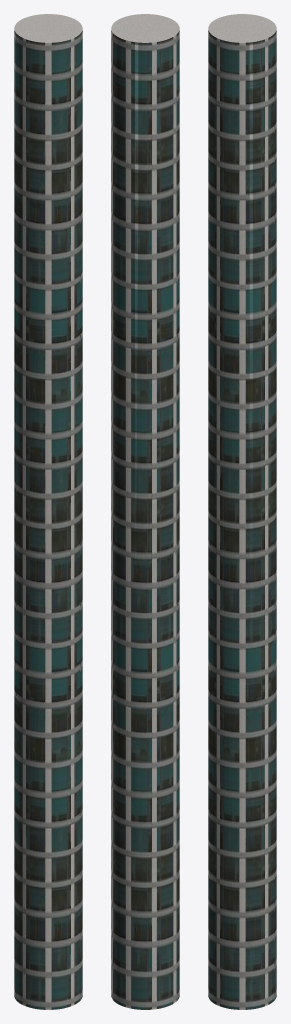
3 renders of one model, left to right at view 1: azimuth 90°, elevation 25°; view 2: azimuth 150°, elevation 25°; view 3: azimuth 270°, elevation 25°, orthographic.
Parts seen in each view (by area): view 1: building27, building27_cell.001, building27_cell; view 2: building27_cell, building27_cell.001, building27; view 3: building27, building27_cell, building27_cell.001.
Boxes of the visible parts, <box> form: building27: <box>14,14,82,1009</box>; building27_cell.001: <box>14,612,60,1009</box>; building27_cell: <box>14,14,82,620</box>; building27_cell: <box>111,14,179,622</box>; building27_cell.001: <box>111,611,176,1009</box>; building27: <box>111,14,179,1007</box>; building27: <box>208,14,276,1009</box>; building27_cell: <box>208,14,276,623</box>; building27_cell.001: <box>232,611,276,1009</box>.
Size of the model in its own units: 1.13 by 17.55 by 1.13.
2 materials, 2 textured.
